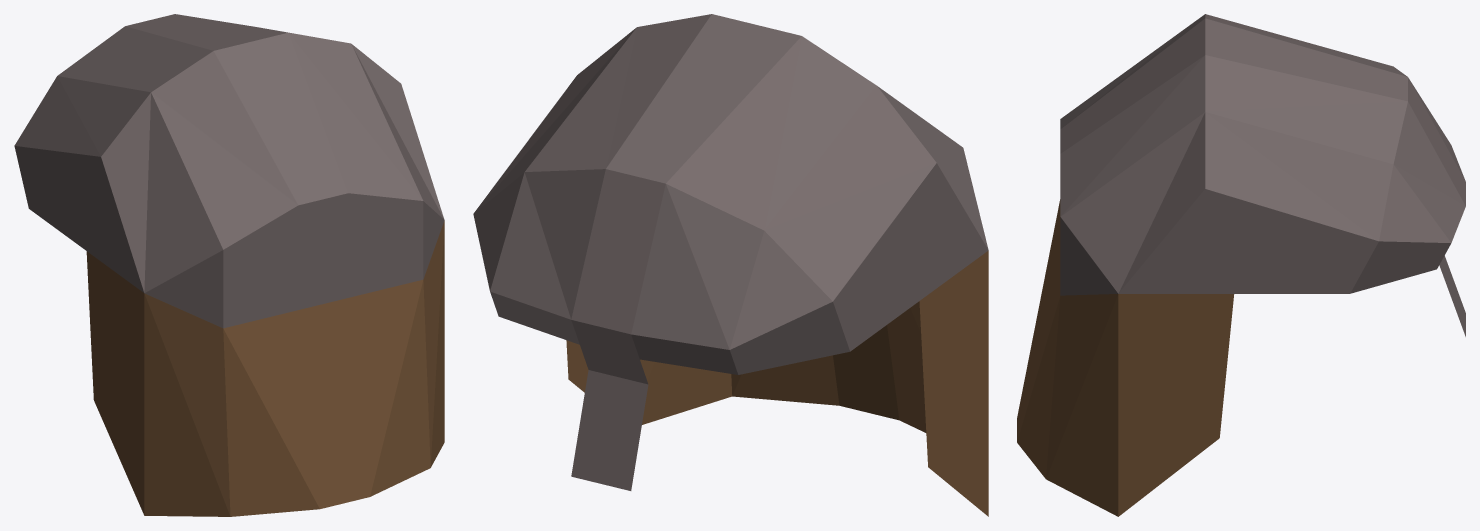
File: npc_chat_dwarf_4_1.obj
3 views of the same model, side by side, from view 1: azimuth 30°, elevation 25°; view 2: azimuth 150°, elevation 25°; view 3: azimuth 270°, elevation 25° (orthographic). The views are drawn at different scales.
Size of the model in its own units: 0.75 by 0.9688 by 0.9688.
